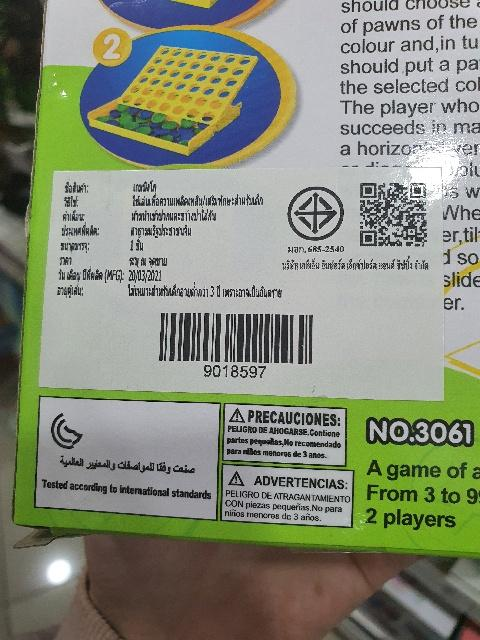Barcode: (148, 305, 323, 379)
